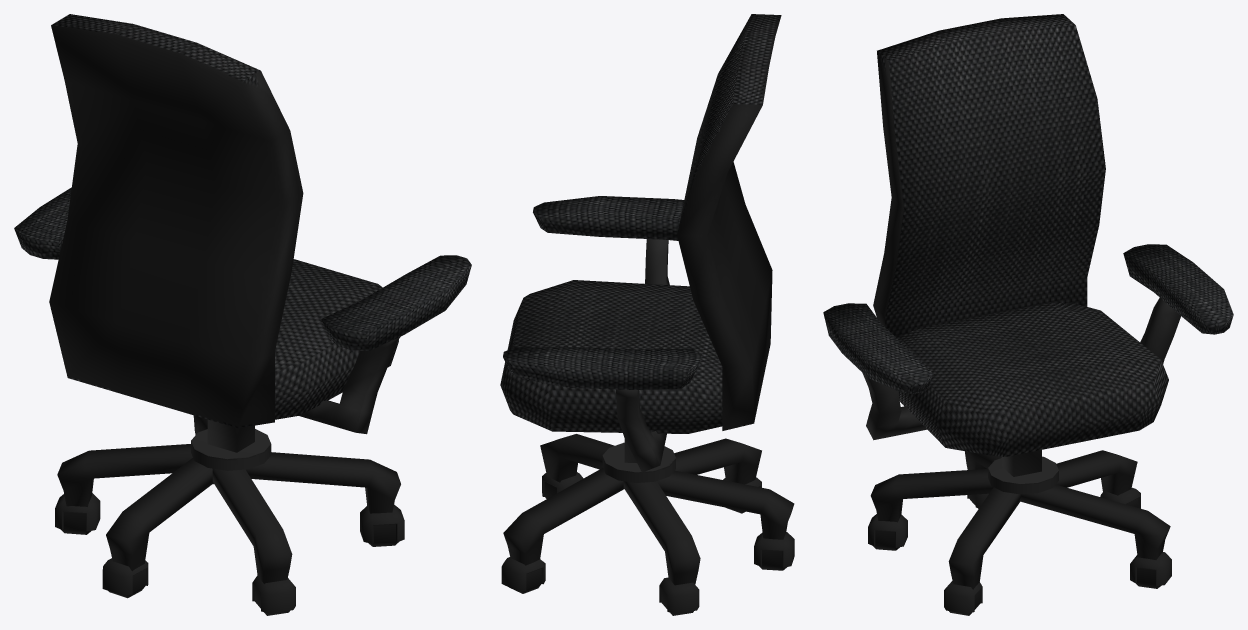
Rendered from Chair.fbx.
The picture shows the model from 3 angles, left to right: view 1: azimuth 30°, elevation 25°; view 2: azimuth 150°, elevation 25°; view 3: azimuth 270°, elevation 25°; orthographic projection. The views are drawn at different scales.
Visible parts, largest first — view 1: Chair; view 2: Chair; view 3: Chair.
Part boxes in pixels (bbox=[...]): Chair: bbox=[14, 14, 471, 615]; Chair: bbox=[500, 14, 794, 615]; Chair: bbox=[823, 14, 1233, 615].
Bounding box in the file's own units: 19.83 × 31.34 × 23.98.
